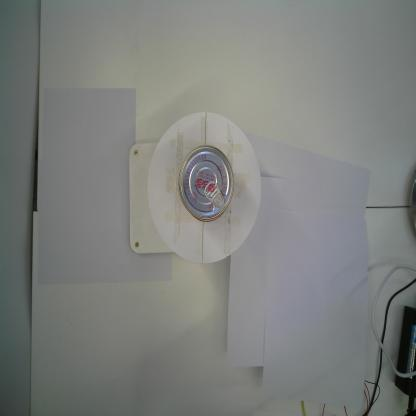Canned Food: (178, 145, 234, 223)
